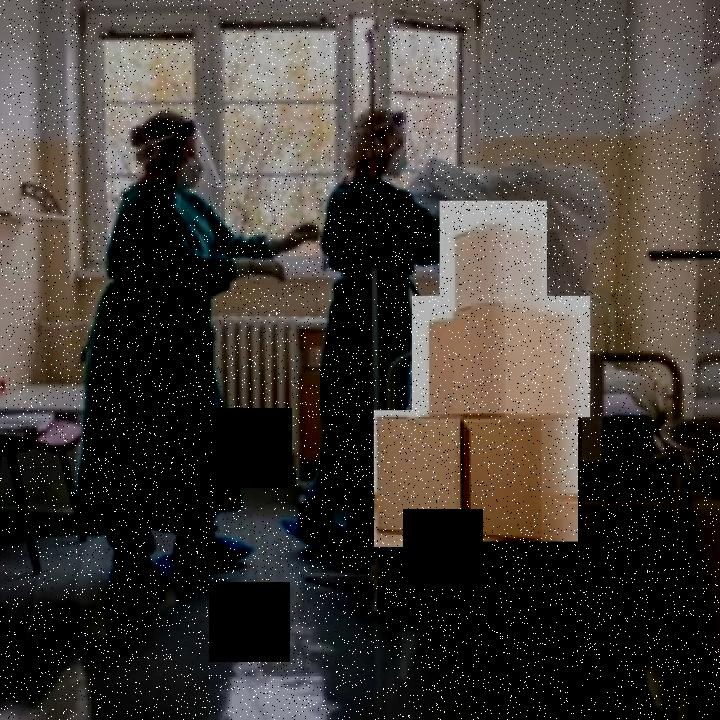box: (410, 295, 594, 420), (458, 413, 582, 544), (438, 200, 550, 328), (373, 408, 463, 550)
